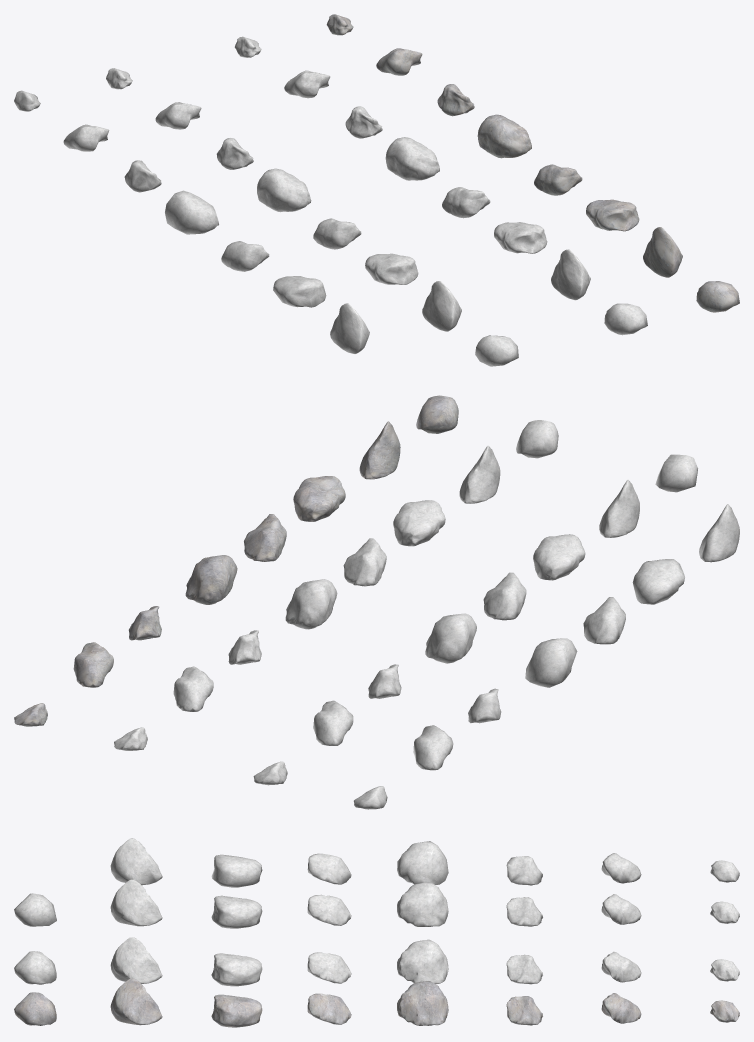
Rendered from rock_00_all_presentation.fbx.
3 views of the same model, one above another, from view 1: azimuth 30°, elevation 25°; view 2: azimuth 150°, elevation 25°; view 3: azimuth 270°, elevation 25° (orthographic). The views are drawn at different scales.
Visible parts, largest first — view 1: rock_00_all_presentation; view 2: rock_00_all_presentation; view 3: rock_00_all_presentation.
Part boxes in pixels (x1,y1,x2,y2): rock_00_all_presentation: (14,14,739,366); rock_00_all_presentation: (14,395,739,809); rock_00_all_presentation: (14,838,739,1027).
Bounding box in the file's own units: 1954 × 242 × 3726.
